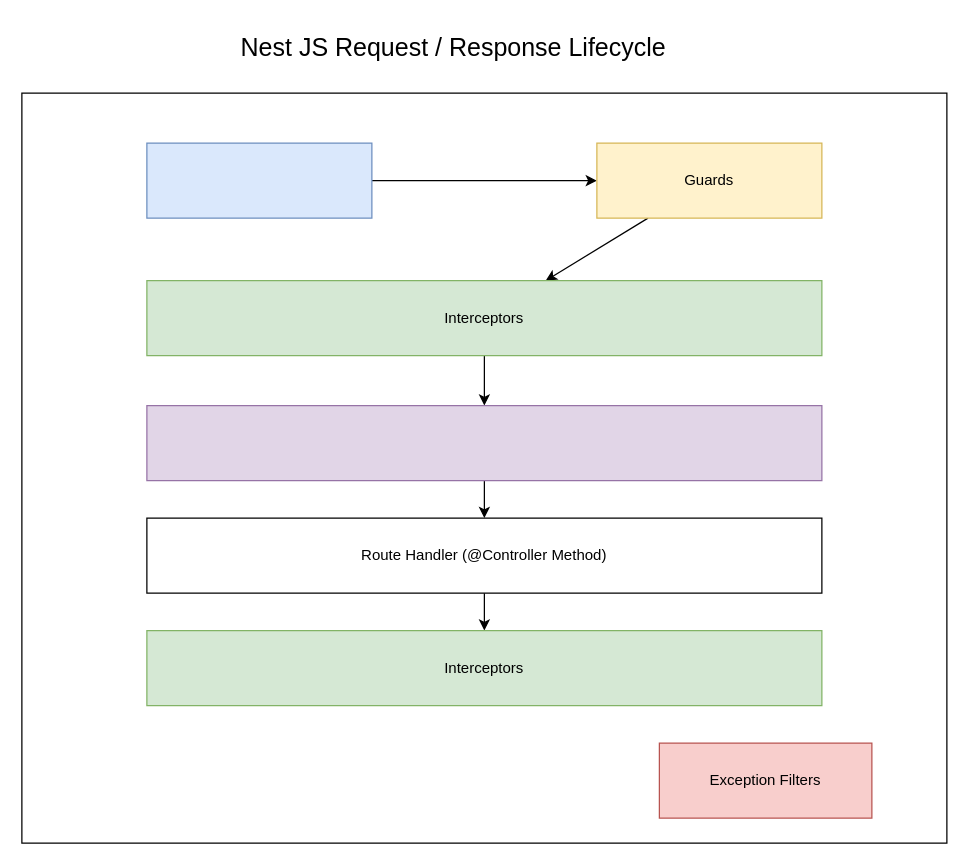
The diagram is 969 pixels wide and 865 high, and some of its shapes have lost their labels. The box of each missing label's shape, as (x1, y1, x2, y2) in pixels:
Middlewares: (146, 142, 372, 218)
Pipes: (146, 404, 822, 481)
